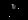person: (10, 6, 20, 19)
